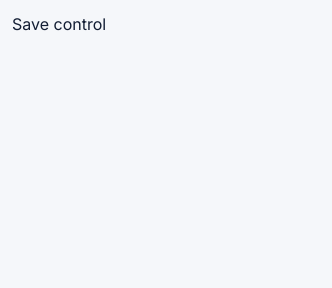
Test: PaymentForm locked-field tooltips › shows the unlock explanation for the {"field":"Save","note":"Save is disabled because the database trigger already rejected this exact payload. Re-submitting it
Focus the element showing "Save control" at x=59, y=24, box [12,12,106,36]
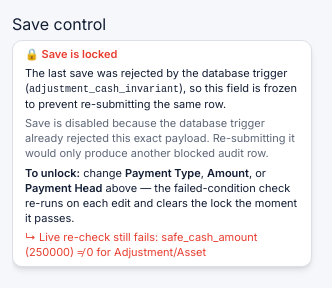
Result: the text "adjustment_cash_invariant" is shown at [29,84,179,95]
Result: the text "rejected by the database trigger" is shown at [25,66,287,95]
Result: the text "Save is disabled because the database trigger already rejected this exact payload. Re-submitting it would only produce a" is shown at [25,116,295,160]
